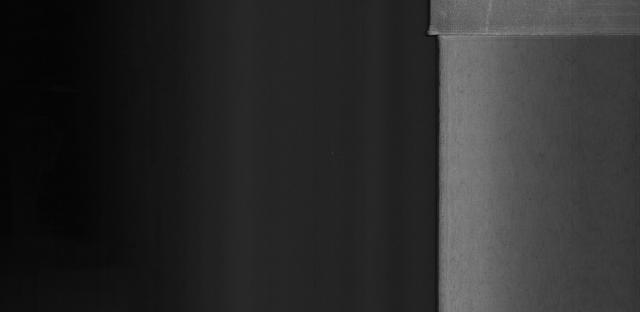welding_line: (428, 25, 635, 43)
